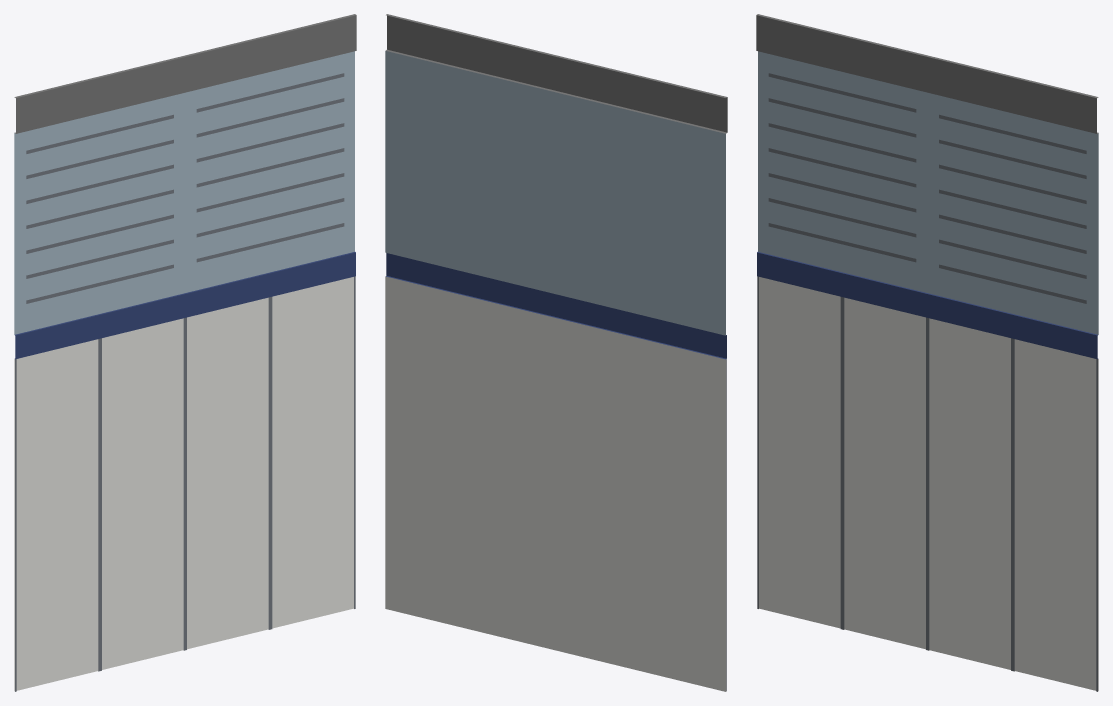
File: top-w1.fbx
The picture shows the model from 3 angles, left to right: view 1: azimuth 30°, elevation 25°; view 2: azimuth 150°, elevation 25°; view 3: azimuth 330°, elevation 25°; orthographic projection.
Visible parts, largest first — view 1: a1028/0/top-w1; view 2: a1028/0/top-w1; view 3: a1028/0/top-w1.
Part boxes in pixels (x1,y1,x2,y2): a1028/0/top-w1: [14, 14, 356, 691]; a1028/0/top-w1: [385, 14, 727, 691]; a1028/0/top-w1: [756, 14, 1098, 691].
Bounding box in the file's own units: 6 × 10 × 0.05.
